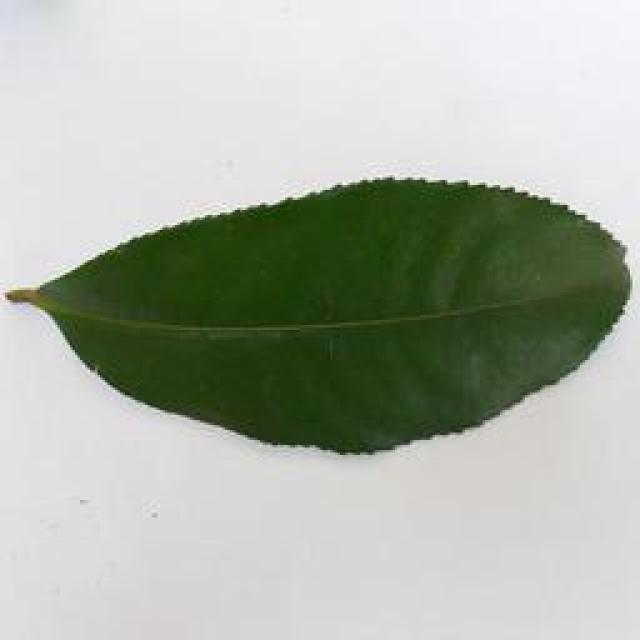Healthy: (6, 162, 632, 473)
